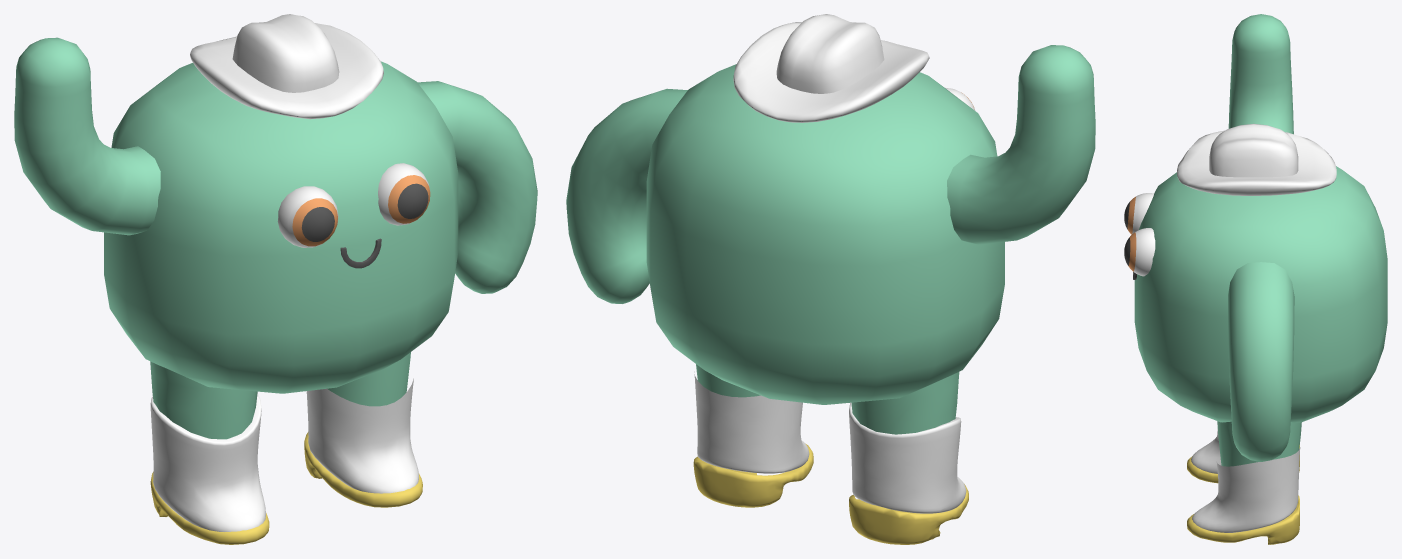
3 renders of one model, left to right at view 1: azimuth 30°, elevation 25°; view 2: azimuth 150°, elevation 25°; view 3: azimuth 270°, elevation 25°, orthographic. The views are drawn at different scales.
Parts seen in each view (by area): view 1: pCube4, greenChar_geo_10, pCube2, pCube2.1, cowboyHat, orangeLegs, bootSole, eyes-whiteMTL, eyes-blackMTL, eyes-orangeMTL; view 2: pCube4, pCube2, greenChar_geo_10, cowboyHat, pCube2.1, bootSole, orangeLegs; view 3: pCube4, pCube2.1, cowboyHat, greenChar_geo_10, pCube2, bootSole, eyes-whiteMTL, orangeLegs, eyes-orangeMTL.
Boxes of the visible parts, x1,y1,x2,y2 form: pCube4: (104, 61, 458, 393); greenChar_geo_10: (150, 378, 418, 531); pCube2: (14, 37, 160, 235); pCube2.1: (417, 81, 537, 293); cowboyHat: (190, 14, 383, 119); orangeLegs: (150, 352, 410, 439); bootSole: (150, 432, 422, 544); eyes-whiteMTL: (277, 163, 430, 247); eyes-blackMTL: (301, 183, 428, 241); eyes-orangeMTL: (292, 175, 430, 246); pCube4: (646, 64, 1004, 404); pCube2: (947, 45, 1095, 244); greenChar_geo_10: (694, 371, 966, 513); cowboyHat: (733, 14, 929, 122); pCube2.1: (566, 88, 687, 303); bootSole: (693, 443, 968, 544); orangeLegs: (696, 364, 959, 434); pCube4: (1134, 166, 1387, 422); pCube2.1: (1228, 262, 1294, 461); cowboyHat: (1177, 123, 1336, 195); greenChar_geo_10: (1191, 424, 1300, 532); pCube2: (1228, 14, 1293, 134); bootSole: (1187, 445, 1299, 544); eyes-whiteMTL: (1132, 193, 1155, 276); orangeLegs: (1217, 421, 1301, 466); eyes-orangeMTL: (1127, 196, 1136, 271).
Bounding box in the file's own units: 0.1111 × 0.1053 × 0.0633.
